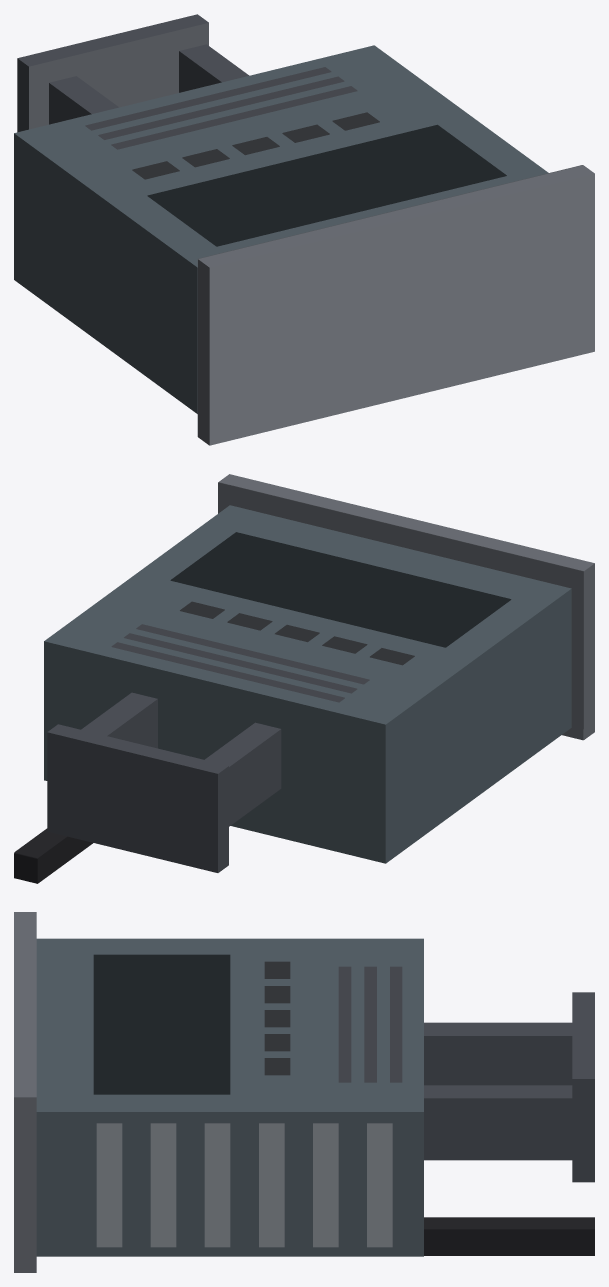
File: controller_ground_mppt_off_S.obj
3 renders of one model, top to bottom at view 1: azimuth 30°, elevation 25°; view 2: azimuth 150°, elevation 25°; view 3: azimuth 270°, elevation 25°, orthographic. The views are drawn at different scales.
Visible parts, largest first — view 1: controller_ground_mppt_off_S; view 2: controller_ground_mppt_off_S; view 3: controller_ground_mppt_off_S.
Boxes of the visible parts, box(x1,y1,x2,y2) form: controller_ground_mppt_off_S: box(14, 14, 594, 445); controller_ground_mppt_off_S: box(14, 474, 594, 883); controller_ground_mppt_off_S: box(14, 912, 594, 1272).
Size of the model in its own units: 0.77 by 0.37 by 1.02.
1 material, 1 textured.
